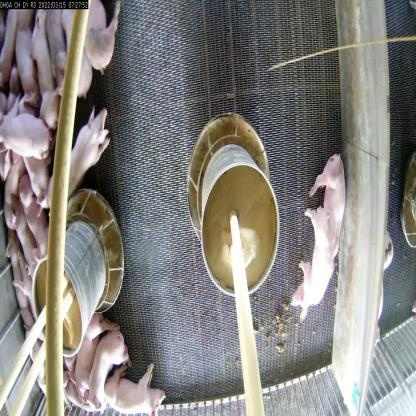Pig: (50, 107, 120, 212), (288, 206, 334, 318), (311, 152, 348, 268), (51, 0, 97, 90), (0, 92, 56, 162), (73, 0, 123, 72), (83, 328, 128, 402), (99, 368, 164, 415), (19, 174, 52, 264), (3, 200, 34, 288), (75, 313, 105, 389)
